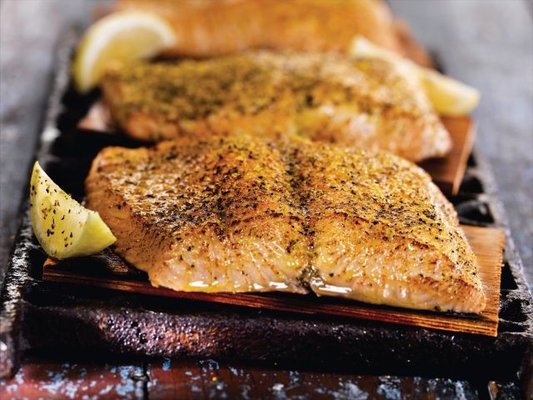sushi: (66, 0, 477, 302)
